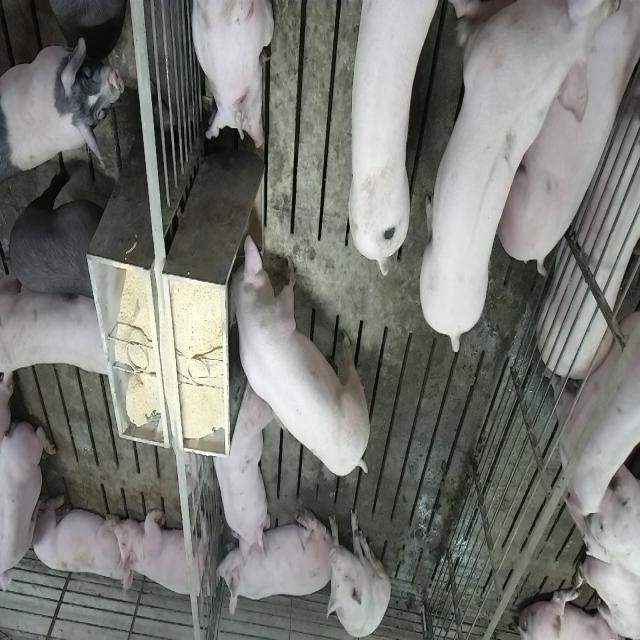Feeding: (228, 235, 374, 480)
Lateral_lying: (495, 0, 640, 273), (536, 55, 640, 377)
Sitting: (322, 504, 392, 640)
Standing: (418, 0, 622, 352), (348, 0, 436, 266), (550, 310, 640, 524), (0, 32, 127, 172), (4, 162, 114, 296), (0, 288, 109, 382)
Sternal_lying: (212, 508, 332, 616), (192, 0, 274, 158), (211, 387, 273, 562), (34, 491, 136, 593), (112, 504, 217, 602), (0, 418, 53, 608)
